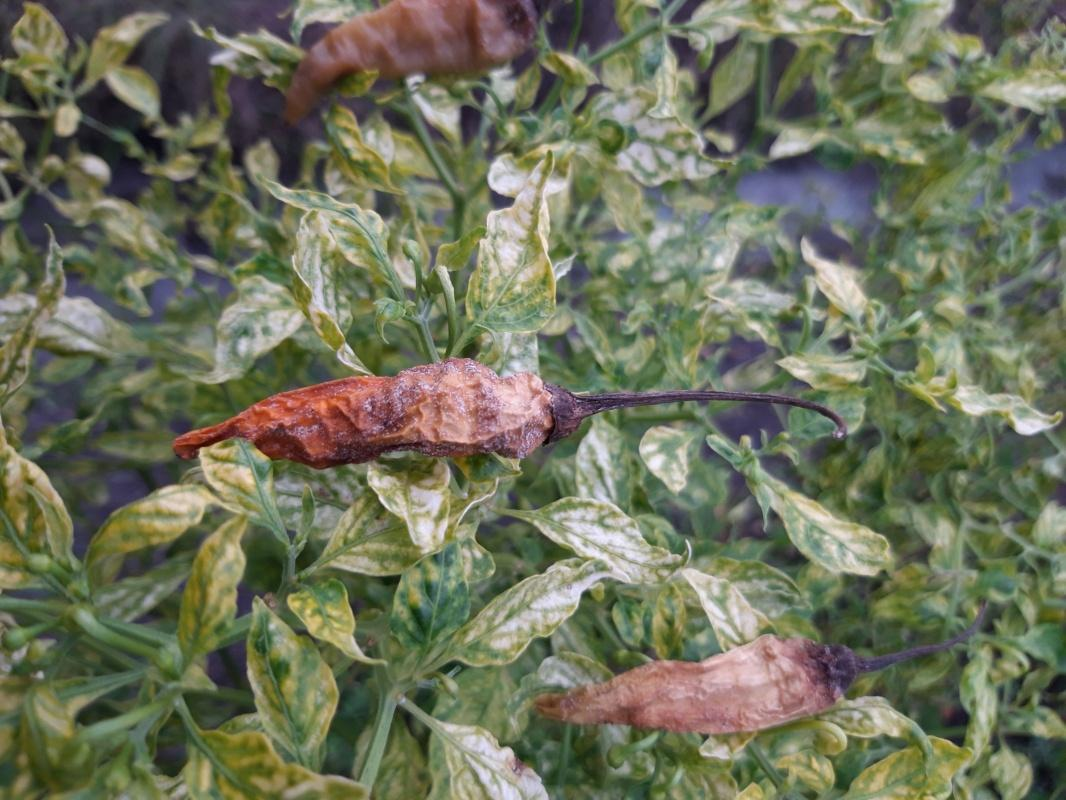antraknosa: (173, 358, 582, 475), (534, 633, 864, 739)
lalat_buah: (280, 2, 544, 129)
